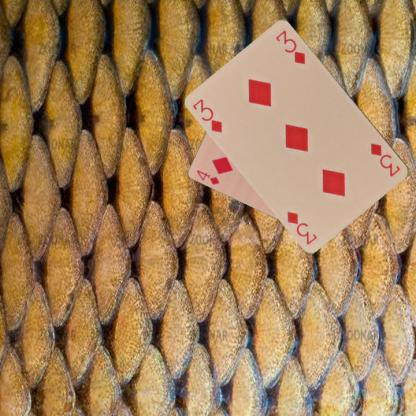3d: (190, 96, 225, 134), (368, 140, 402, 178)
4d: (194, 168, 221, 186)
